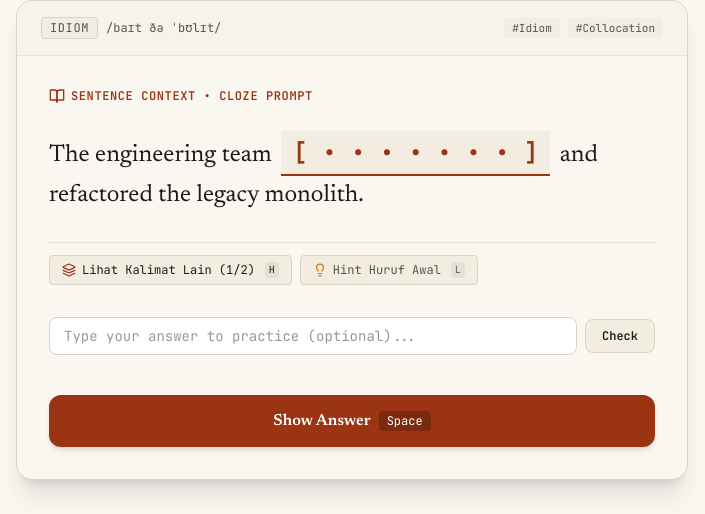
Test: ClozeCard Component › reveals first-letter hint when toggle button is clicked
Click the button "Hint Huruf Awal L".
click(389, 270)  # box [300,255,478,285]
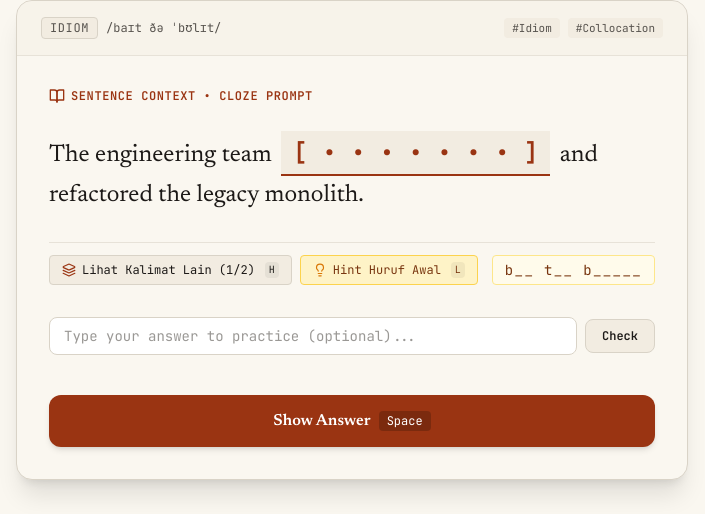
Now the text "b__ t__ b_____" is shown, box [492,255,655,285]
